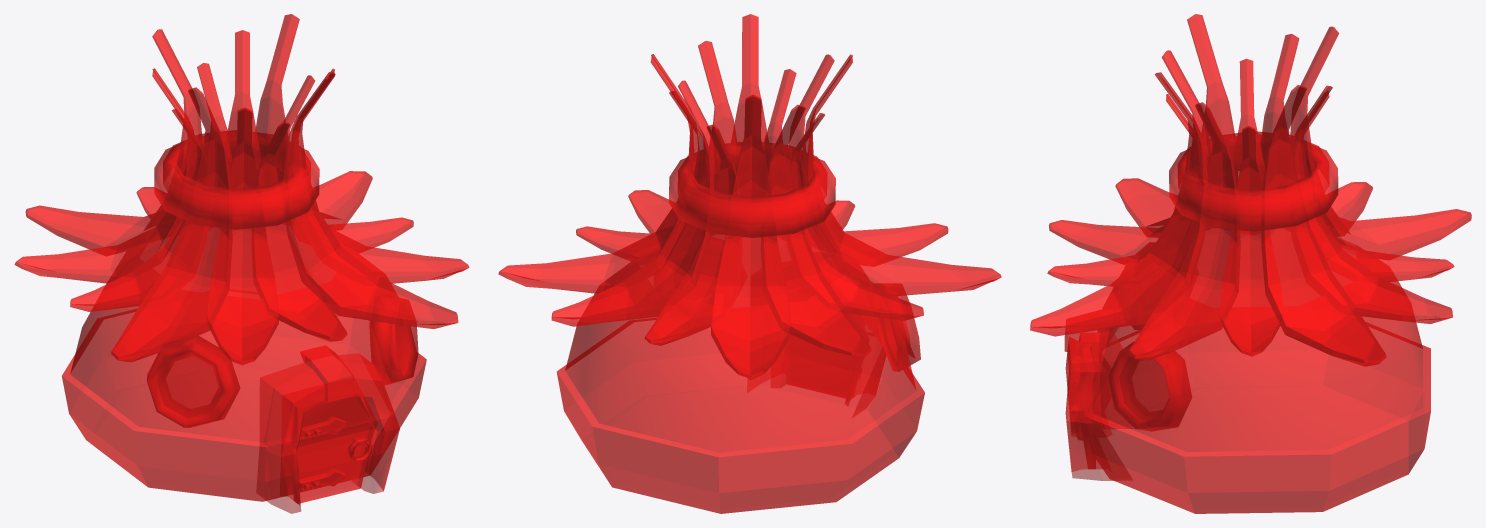
File: House_impossible_to_place.fbx
3 renders of one model, left to right at view 1: azimuth 30°, elevation 25°; view 2: azimuth 150°, elevation 25°; view 3: azimuth 270°, elevation 25°, orthographic. The views are drawn at different scales.
Visible parts, largest first — view 1: Cube.015; view 2: Cube.015; view 3: Cube.015.
Boxes of the visible parts, x1,y1,x2,y2 form: Cube.015: [14, 14, 469, 513]; Cube.015: [498, 14, 1001, 513]; Cube.015: [1030, 14, 1471, 513].
Size of the model in its own units: 7.59 by 7.59 by 7.63.
